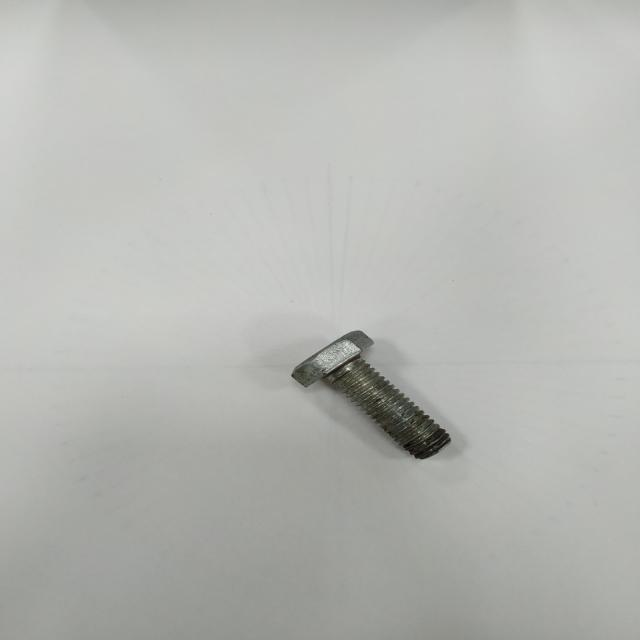Bolt: (292, 331, 450, 459)
